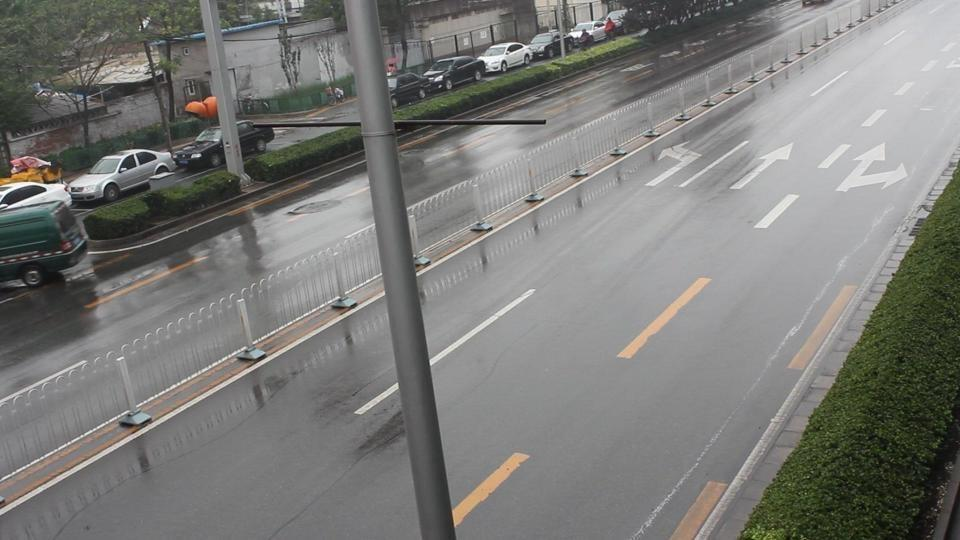car: (0, 186, 95, 288), (64, 148, 176, 206), (173, 122, 275, 168), (421, 55, 486, 92), (172, 132, 226, 170), (387, 71, 435, 106), (478, 42, 530, 74), (5, 155, 61, 183), (0, 182, 56, 210), (527, 32, 569, 61), (567, 19, 608, 47)
